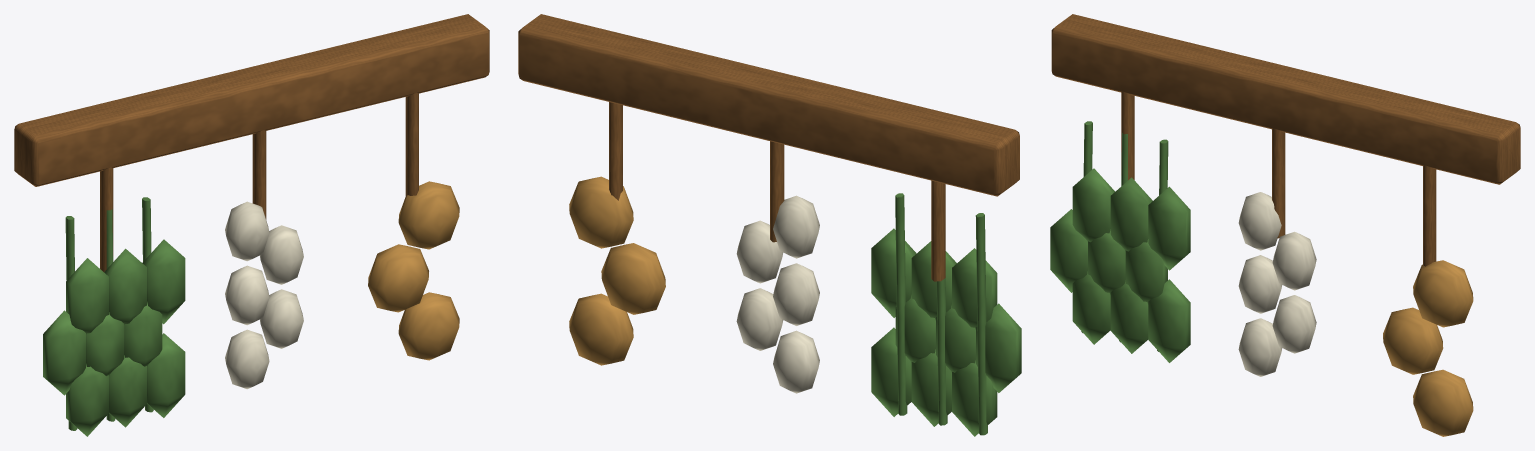
File: Furn_HangingHerbs.fbx
3 renders of one model, left to right at view 1: azimuth 30°, elevation 25°; view 2: azimuth 150°, elevation 25°; view 3: azimuth 330°, elevation 25°, orthographic. The views are drawn at different scales.
Visible parts, largest first — view 1: Furn_HangingHerbs_Mesh; view 2: Furn_HangingHerbs_Mesh; view 3: Furn_HangingHerbs_Mesh.
Boxes of the visible parts, x1,y1,x2,y2 form: Furn_HangingHerbs_Mesh: (14,14,489,436); Furn_HangingHerbs_Mesh: (518,14,1021,436); Furn_HangingHerbs_Mesh: (1050,14,1520,436).
Bounding box in the file's own units: 1.2 × 0.8 × 0.15.
